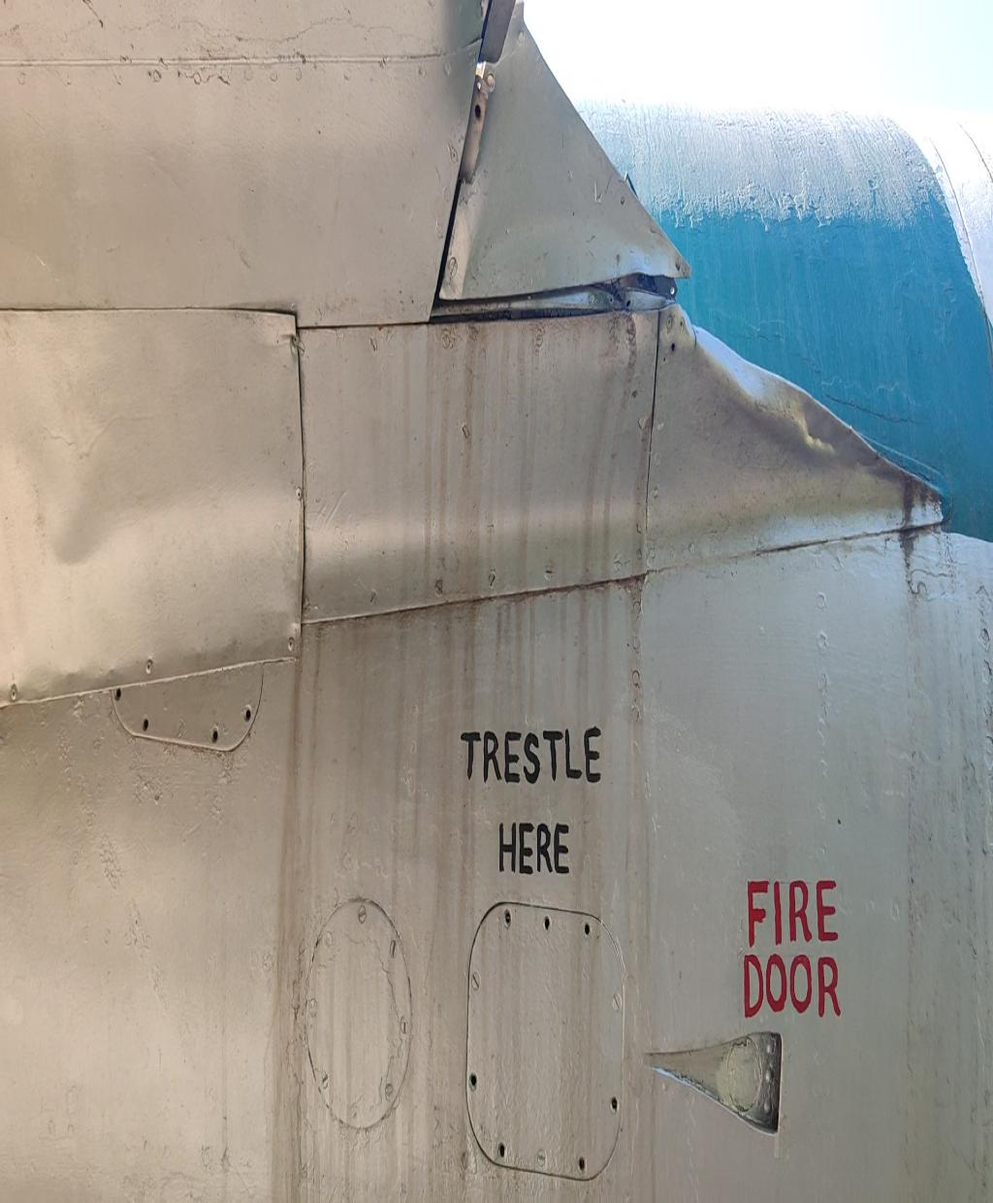dent: (723, 290, 841, 529), (34, 465, 124, 643), (447, 212, 491, 312)
